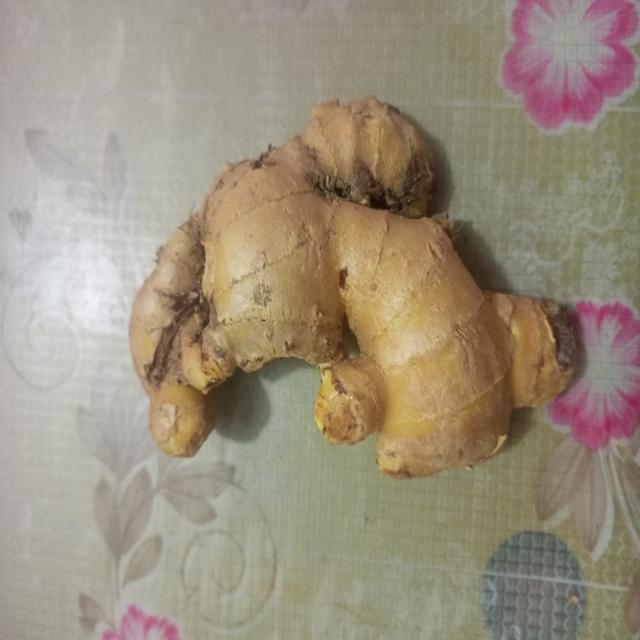ginger: (137, 102, 574, 472)
